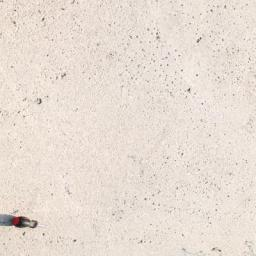FOD: (5, 209, 50, 238)
